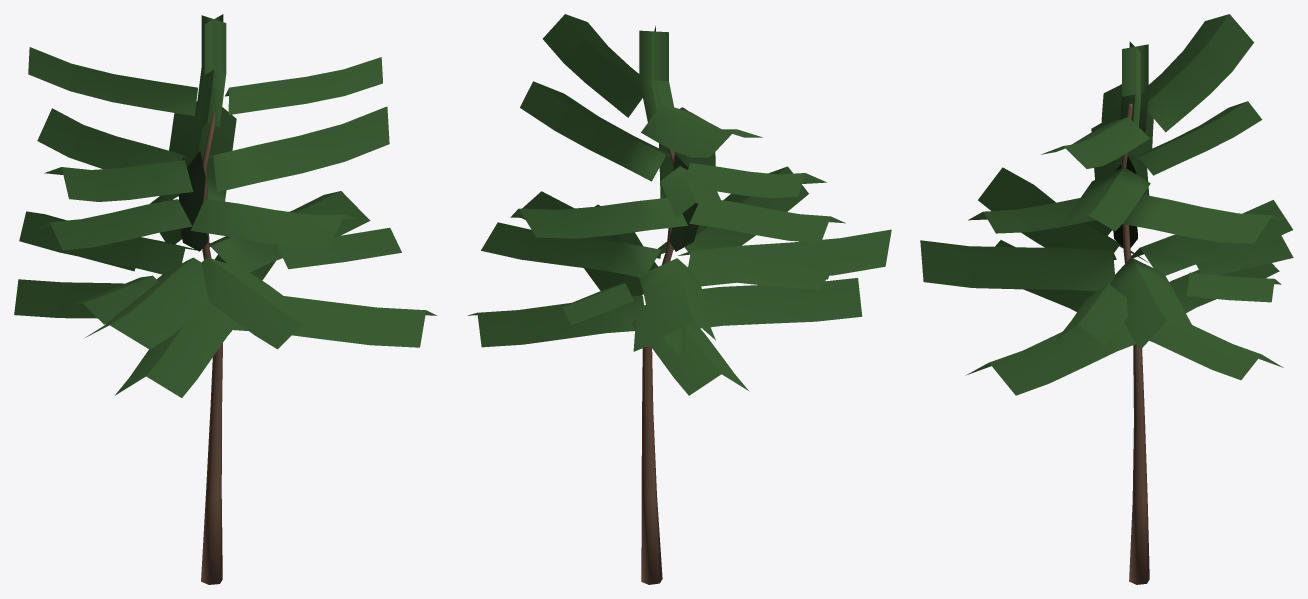
The model's file is sapling_spruce_c.glb.
3 renders of one model, left to right at view 1: azimuth 30°, elevation 25°; view 2: azimuth 150°, elevation 25°; view 3: azimuth 270°, elevation 25°, orthographic. The views are drawn at different scales.
Visible parts, largest first — view 1: sapling_spruce_c_lod0; view 2: sapling_spruce_c_lod0; view 3: sapling_spruce_c_lod0.
Boxes of the visible parts, x1,y1,x2,y2 form: sapling_spruce_c_lod0: (14,14,437,584); sapling_spruce_c_lod0: (467,14,891,584); sapling_spruce_c_lod0: (920,14,1293,584).
Size of what is drawn, in the model's own units: 1.54 by 2.41 by 1.52.
